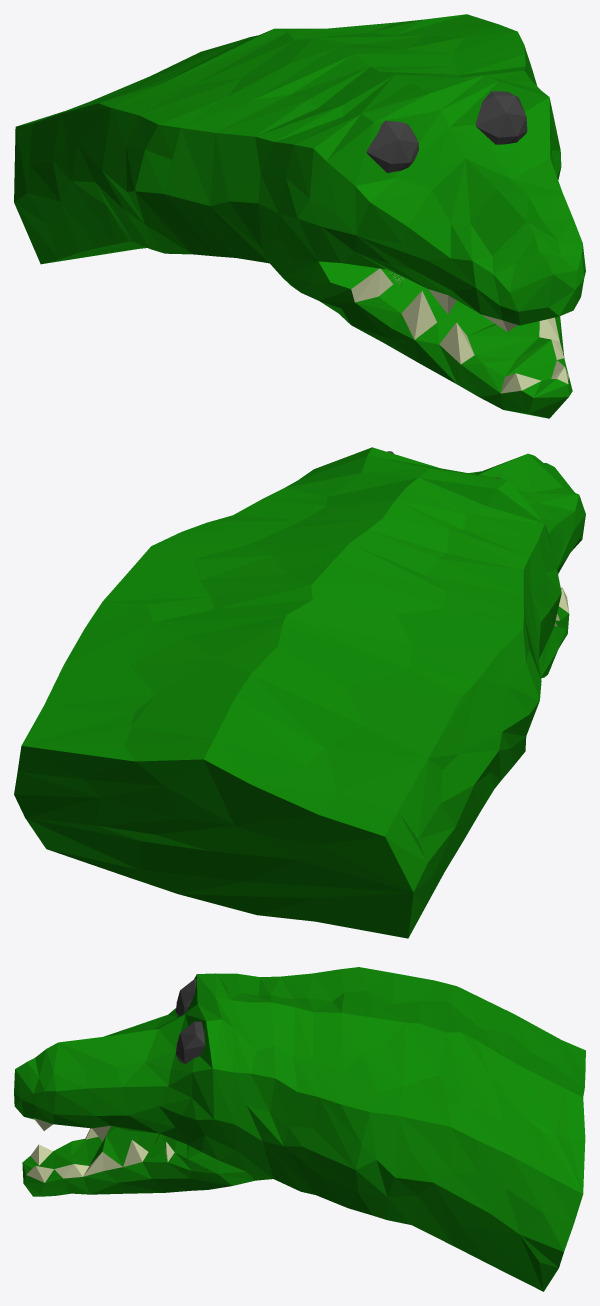
Rendered from stm_env_CrocadileHead.fbx.
3 renders of one model, top to bottom at view 1: azimuth 30°, elevation 25°; view 2: azimuth 150°, elevation 25°; view 3: azimuth 270°, elevation 25°, orthographic. The views are drawn at different scales.
Parts seen in each view (by area): view 1: Cube, Sphere_1, Sphere; view 2: Cube; view 3: Cube, Sphere_1, Sphere.
Boxes of the visible parts, <box> form: Cube: <box>14,14,585,418</box>; Sphere_1: <box>475,91,527,144</box>; Sphere: <box>366,120,418,172</box>; Cube: <box>14,447,585,938</box>; Cube: <box>14,967,585,1291</box>; Sphere_1: <box>176,1021,204,1063</box>; Sphere: <box>176,979,196,1016</box>.
Size of the model in its own units: 1460 by 1008 by 2215.
